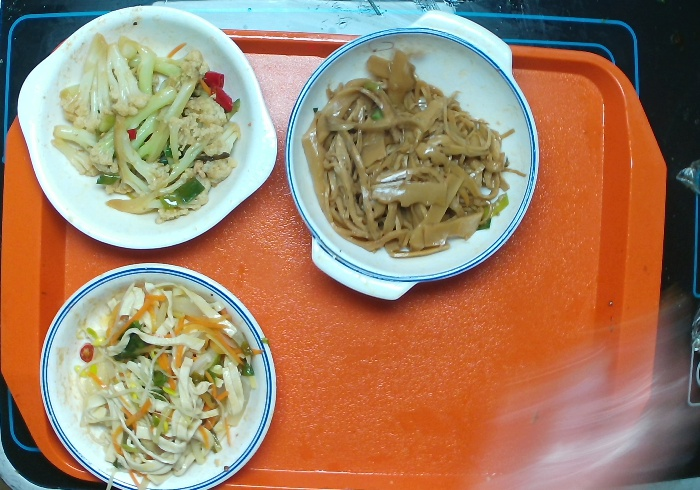HZYJPL-Dai_Er_Bai_Yuan_Wan: (14, 4, 279, 250)
HZYJPL-Lan_Bian_Dai_Er_Wan: (284, 6, 542, 308)
HZYJPL-Lan_Bian_Yuan_Die: (39, 263, 276, 490)
